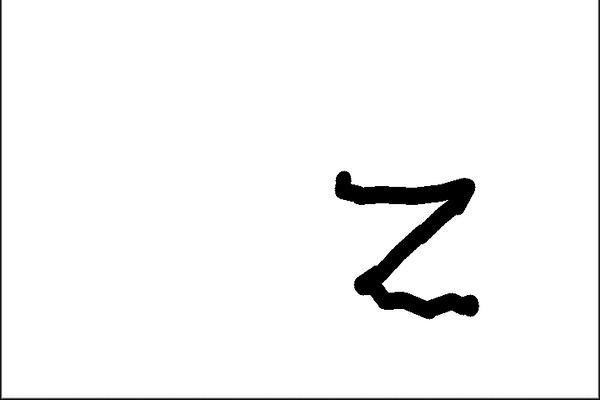Z: (329, 160, 501, 327)
